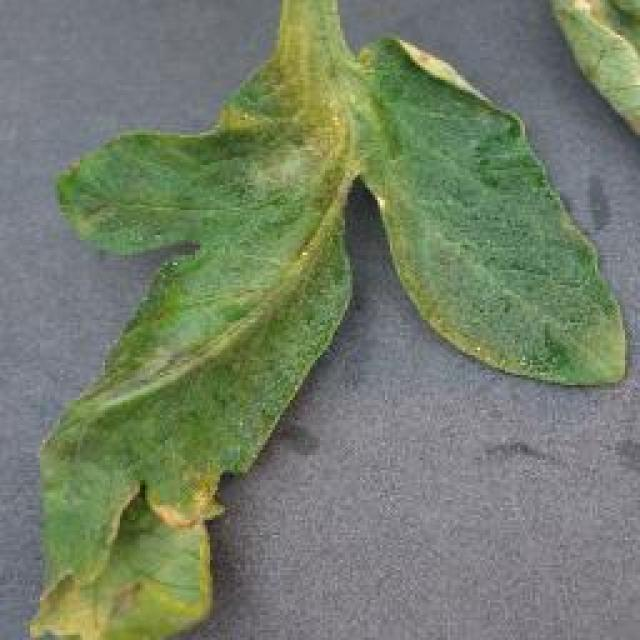Tomato Late Blight: (160, 83, 407, 272)
